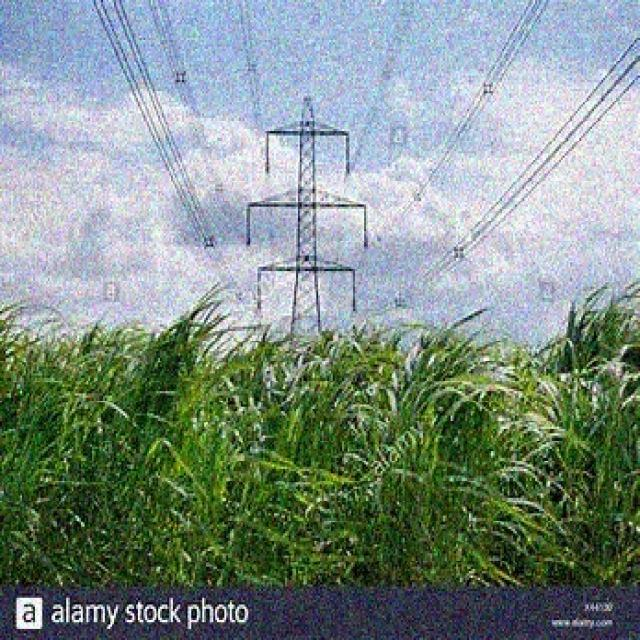utility poles: (250, 59, 364, 586)
